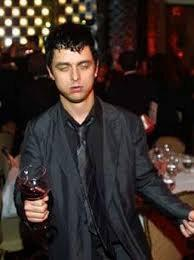Drunk: (49, 46, 98, 103)
